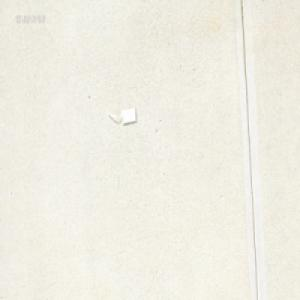LuggageTag: (106, 106, 136, 124)
